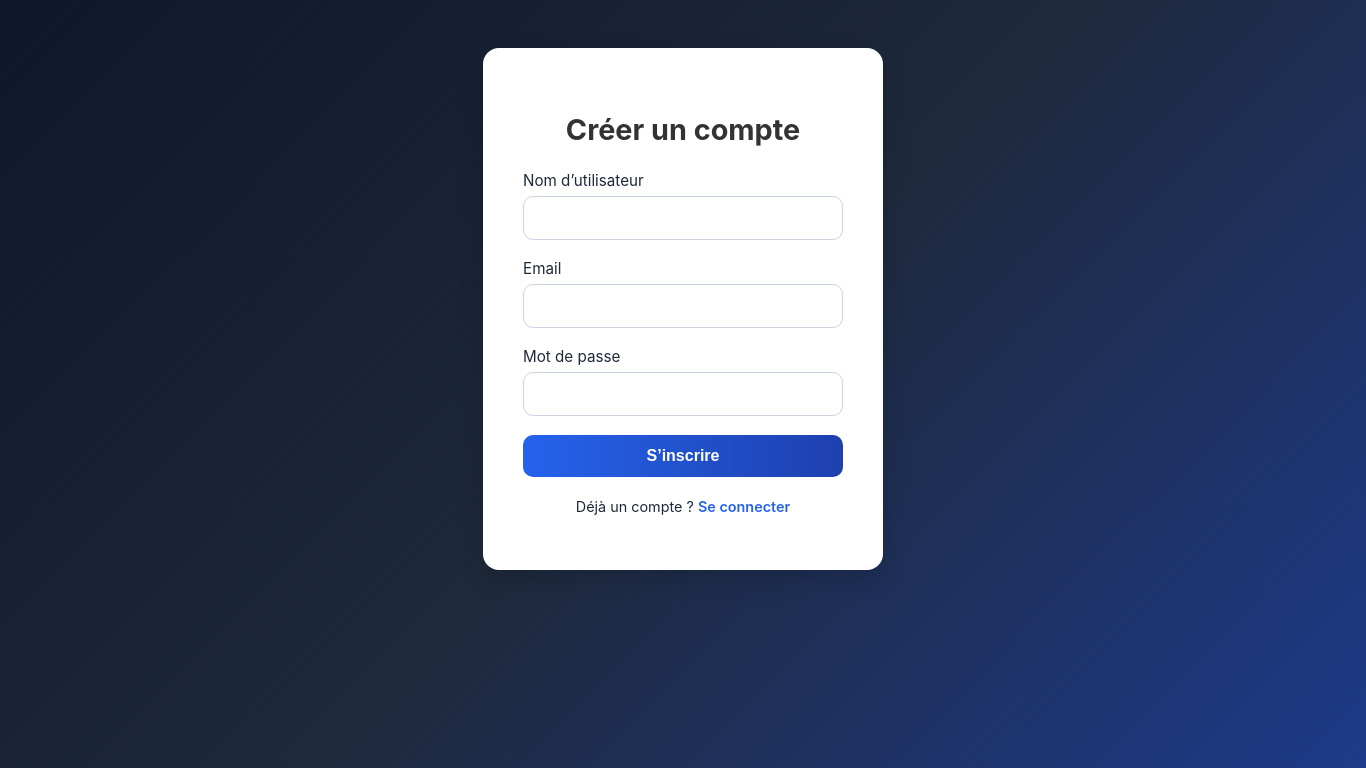
Test: Signup Component › affiche une erreur si l'API rejette l'inscription (ex: email déjà pris)
Type "TestUser" into the field labelled "Nom d’utilisateur".
click(683, 218); type("TestUser")  # box x1=523 y1=196 x2=843 y2=240
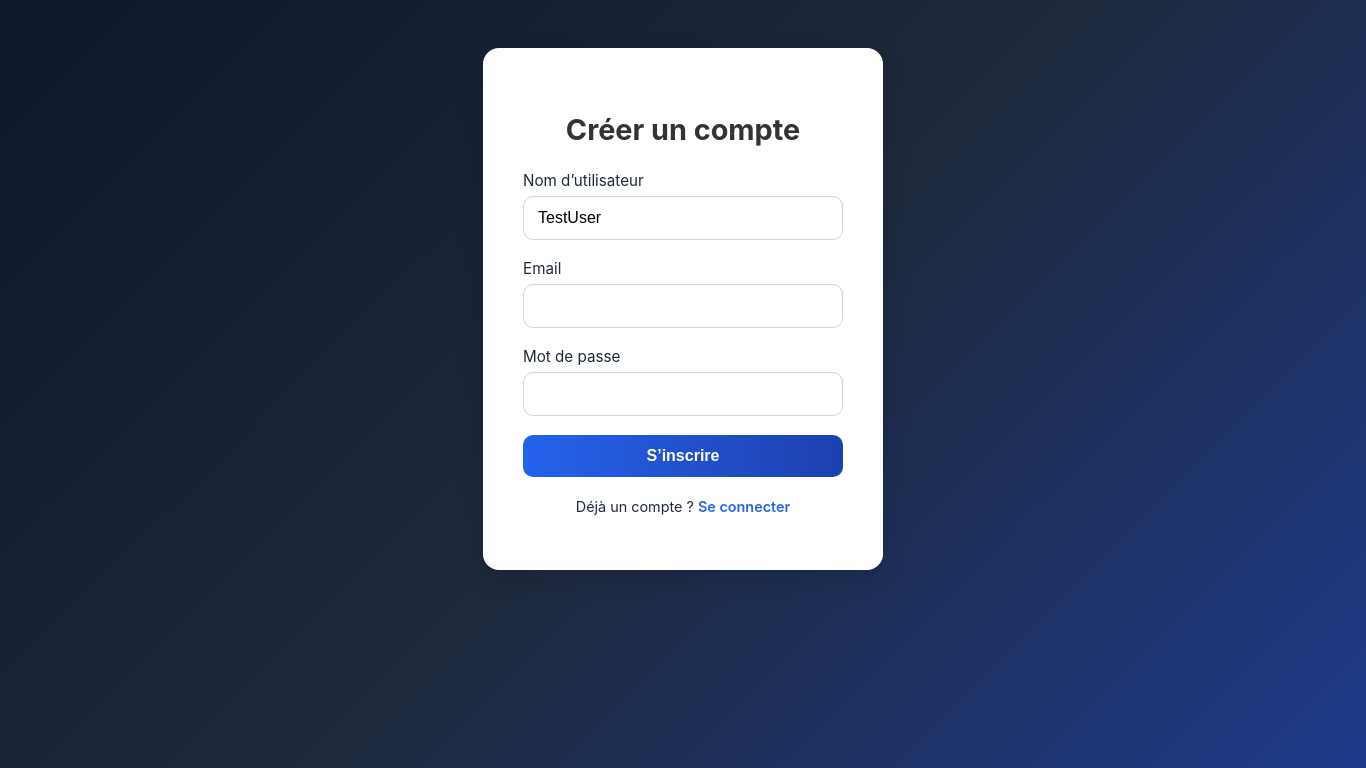
Type "test@test.com" into the field labelled "Email".
click(683, 306); type("test@test.com")  # box x1=523 y1=284 x2=843 y2=328
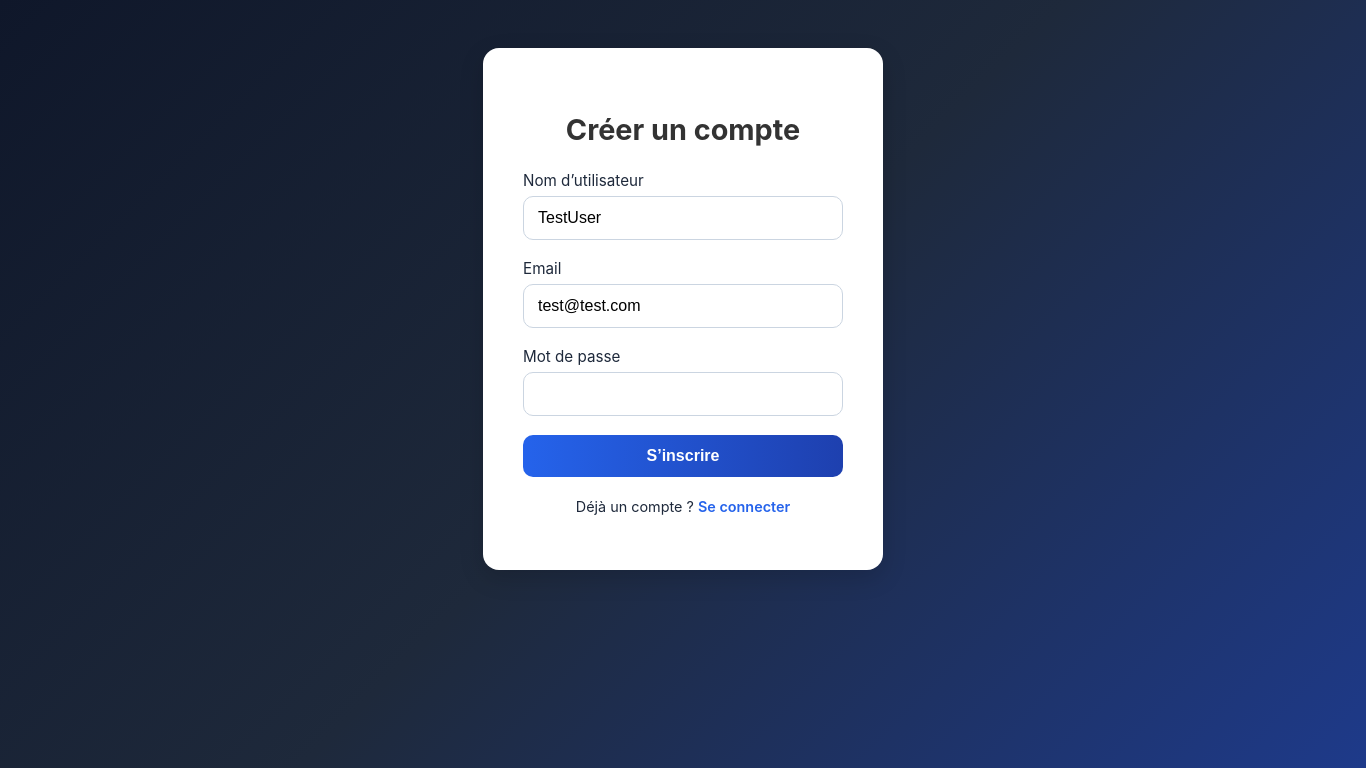
Type "password123" into the password field labelled "Mot de passe".
click(683, 394); type("password123")  # box x1=523 y1=372 x2=843 y2=416
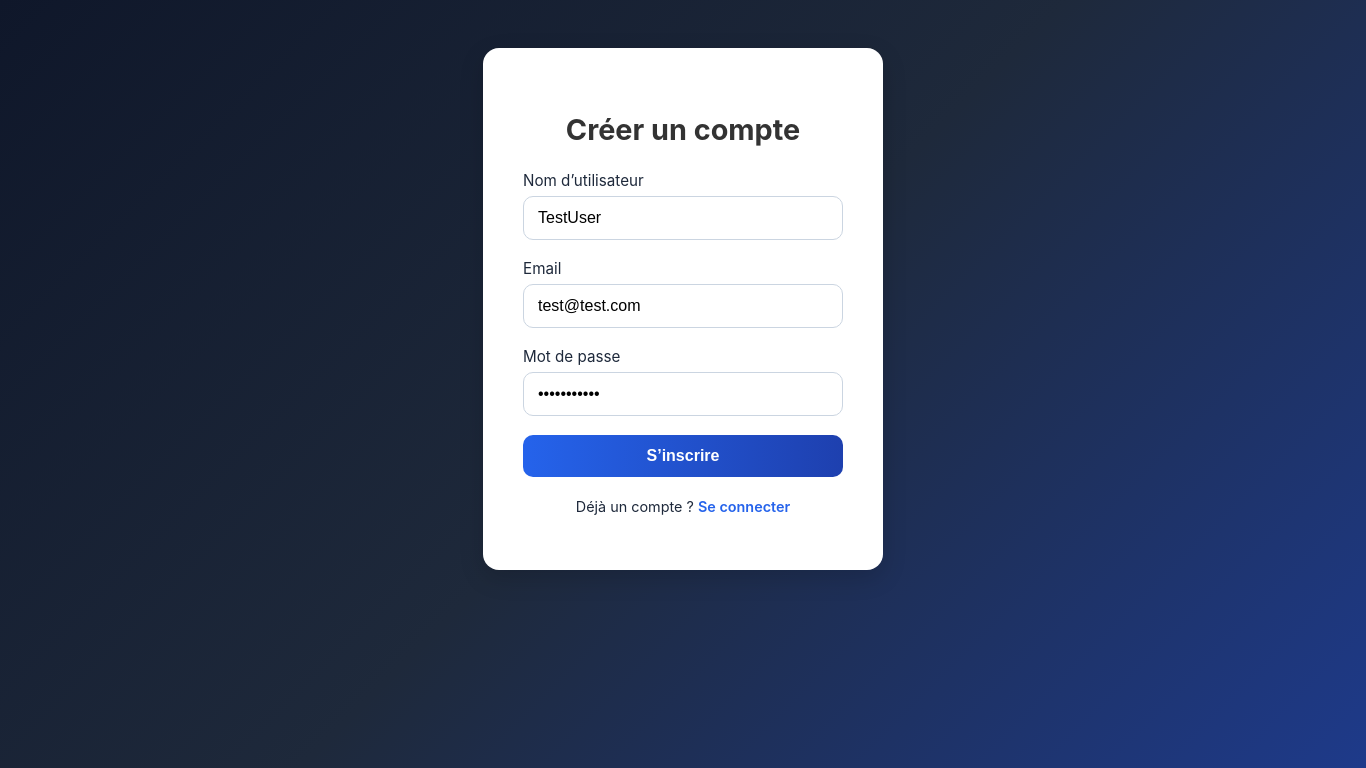
Click the button "S’inscrire".
click(683, 456)  # box x1=523 y1=436 x2=843 y2=478
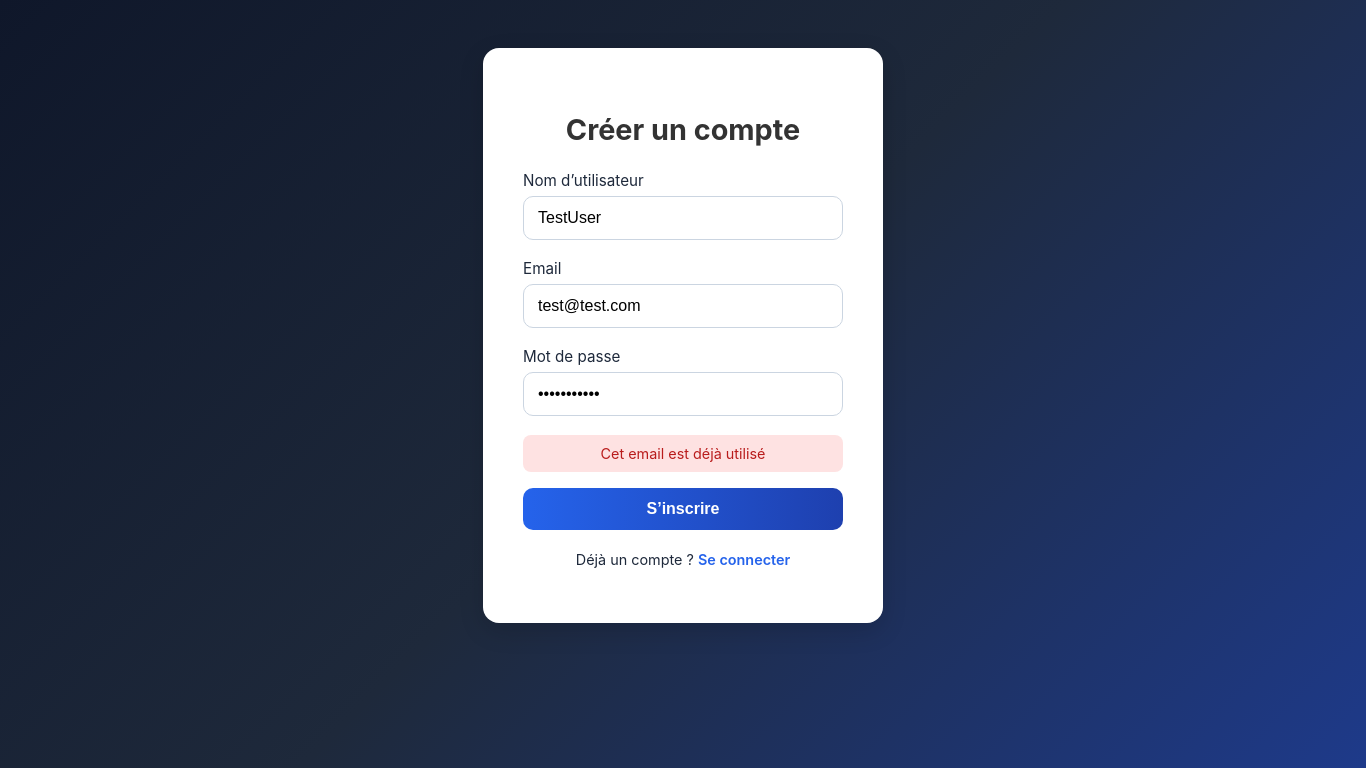
Check: the text "Cet email est déjà utilisé" is shown, box x1=523 y1=436 x2=843 y2=472
